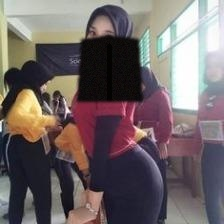Cadar_Niqab: (77, 3, 142, 101)
